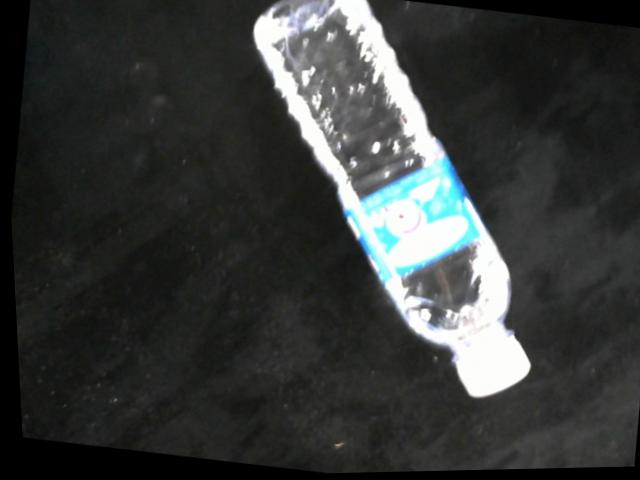bottle: (251, 0, 531, 404)
